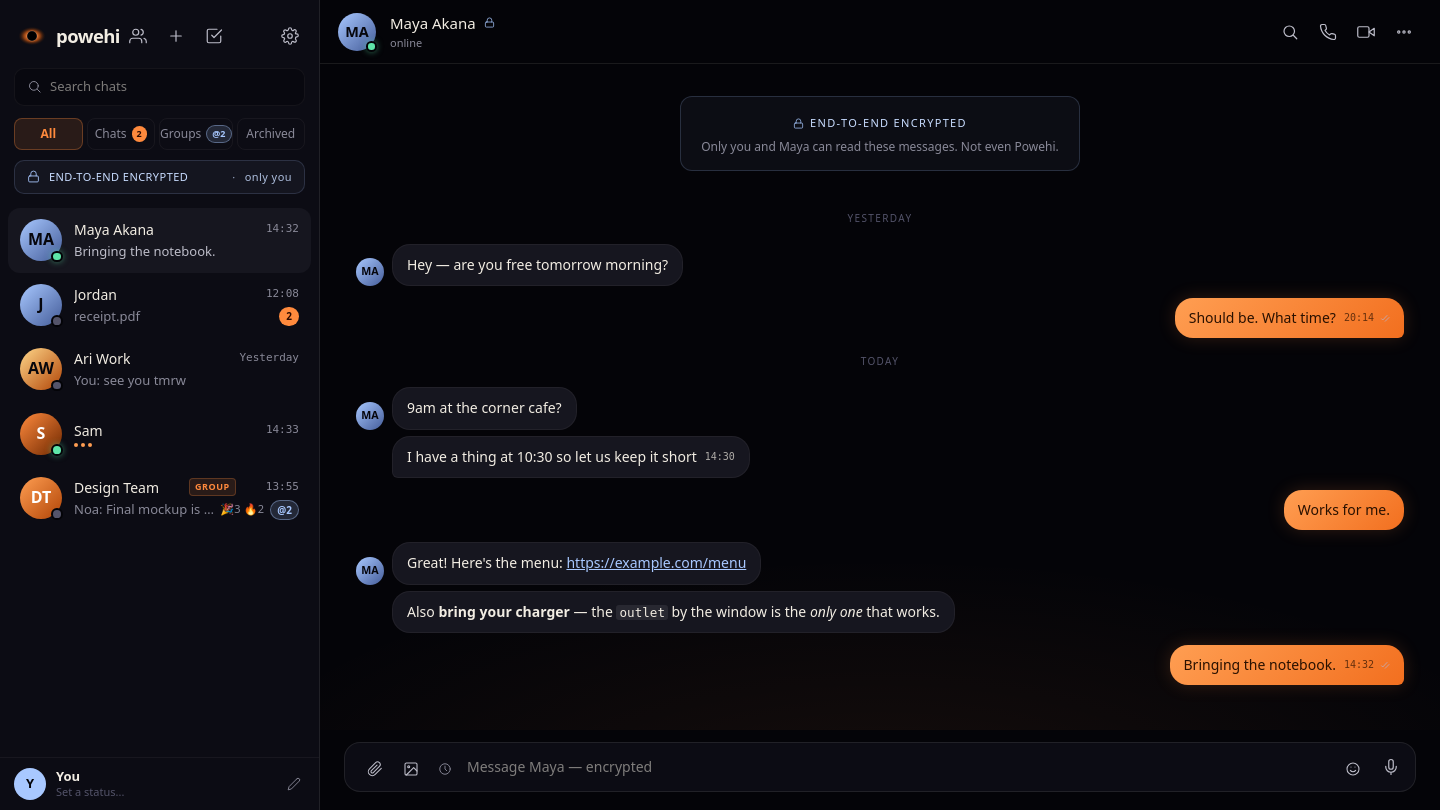
it: ChatLayout — mark all as read › clicking mark-all-read clears the Jordan unread badge
Check: the text with test id "unread-badge" is shown, box left=279, top=307, right=299, bottom=326
Click the button named "mark all as read" at (214, 36), box left=196, top=18, right=232, bottom=54
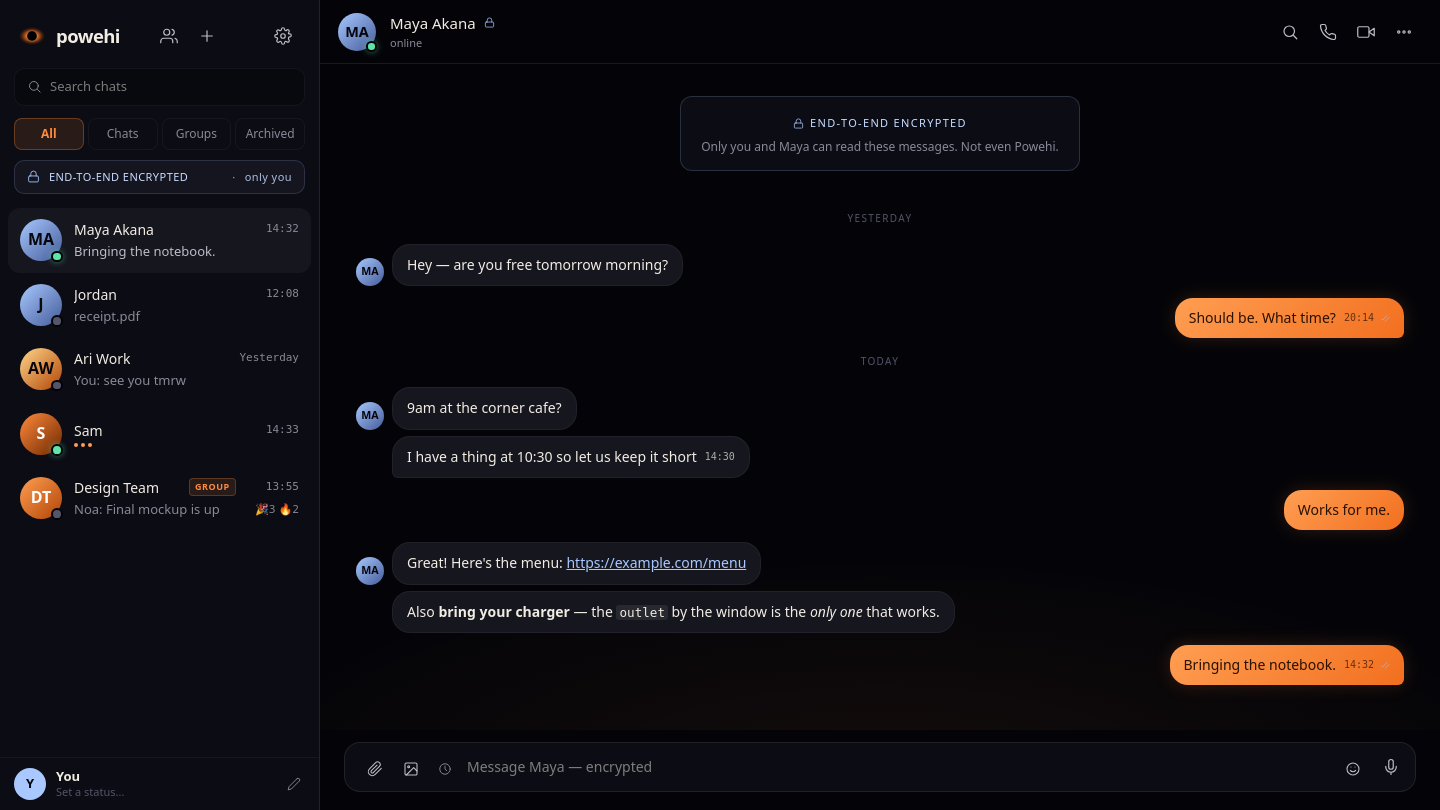
Check: no elements with test id "unread-badge" are shown
